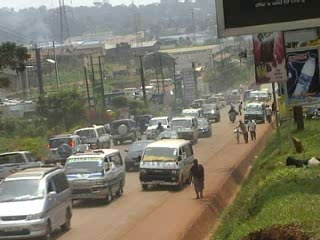Car: (0, 162, 75, 237), (42, 134, 91, 166), (121, 137, 157, 172), (141, 113, 174, 141), (108, 117, 138, 146), (197, 101, 222, 123), (133, 112, 155, 132), (194, 114, 212, 137)
Motorcycle: (226, 105, 239, 123), (151, 118, 163, 136)
